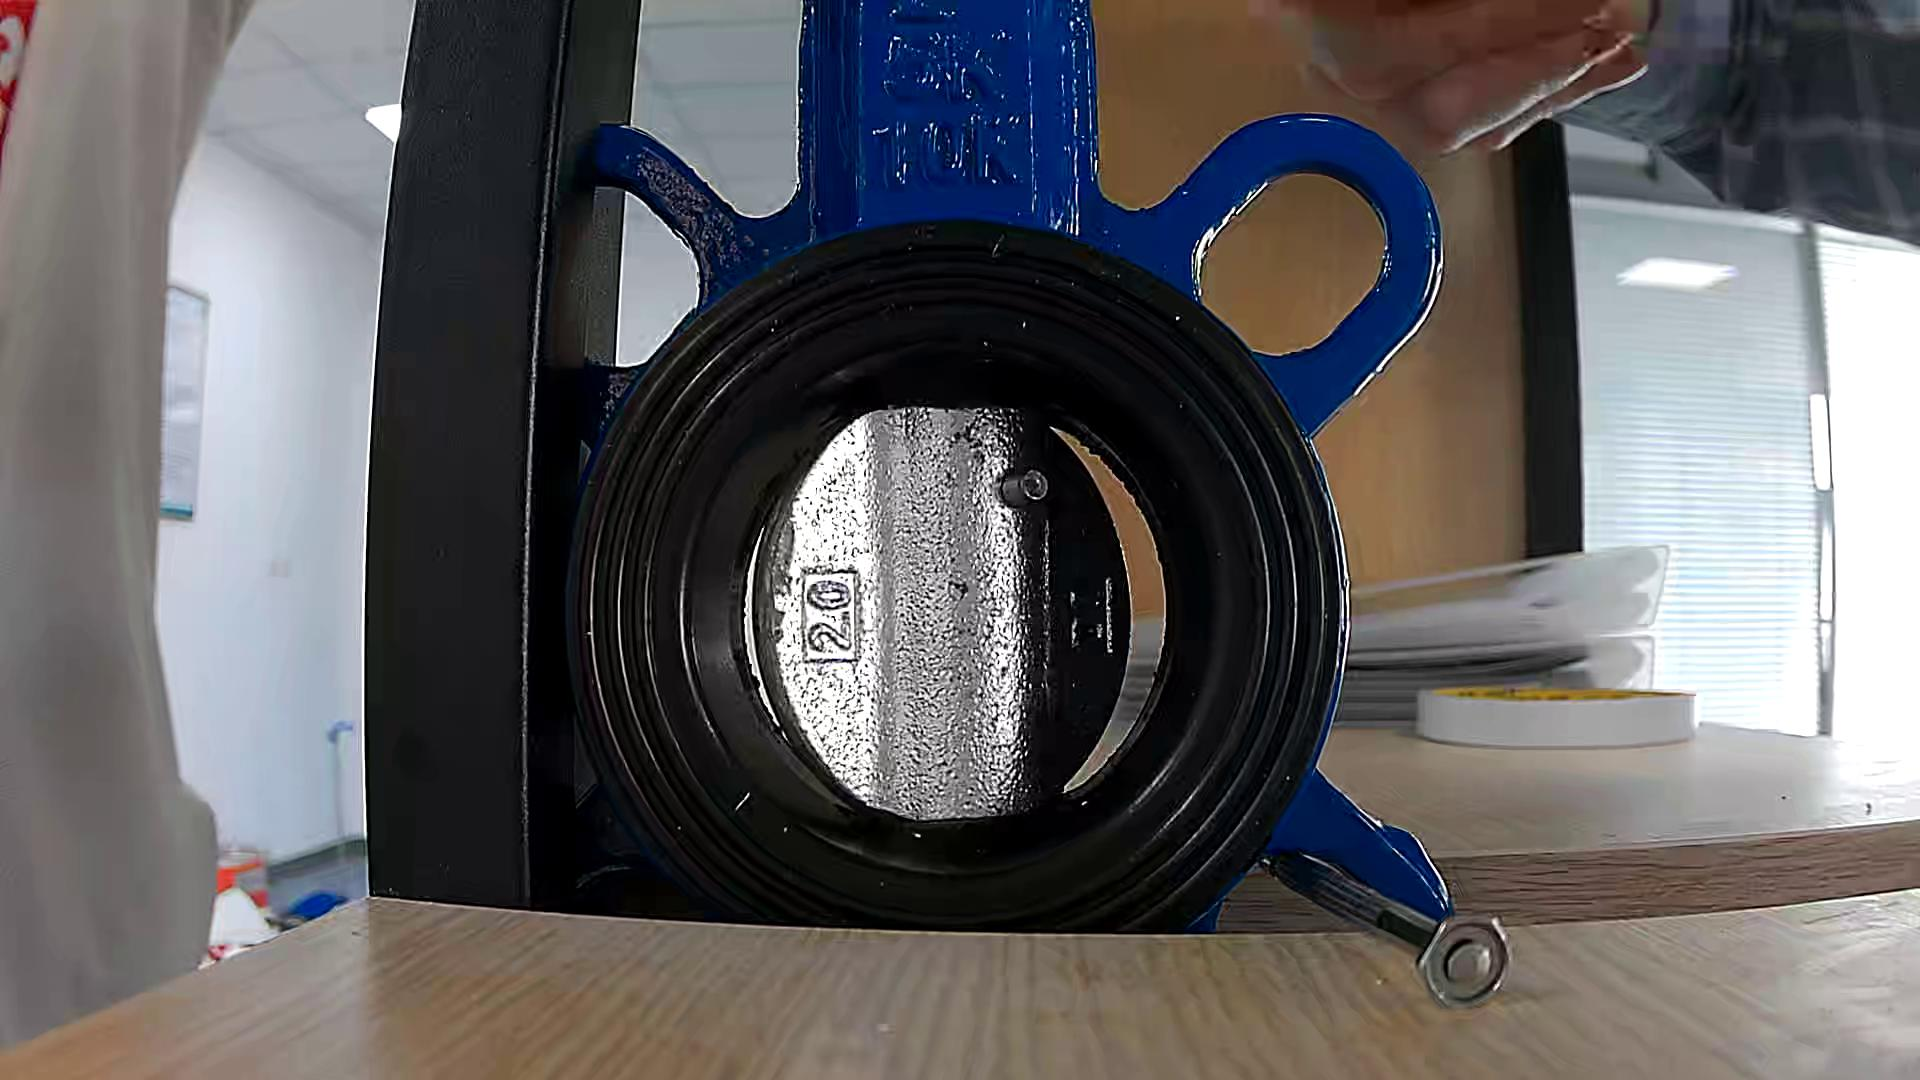valve: (751, 405, 1132, 821)
